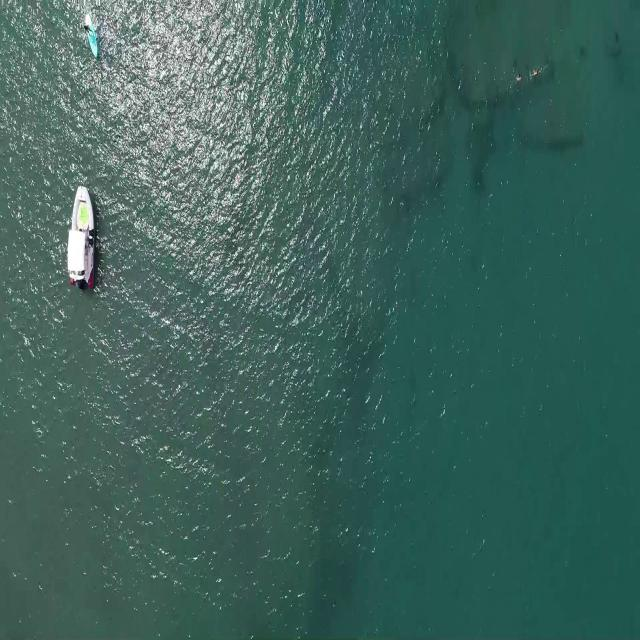boat: (65, 174, 97, 295)
person: (530, 67, 546, 78), (84, 22, 95, 36), (515, 73, 523, 83)
surfboard: (84, 14, 97, 60)
